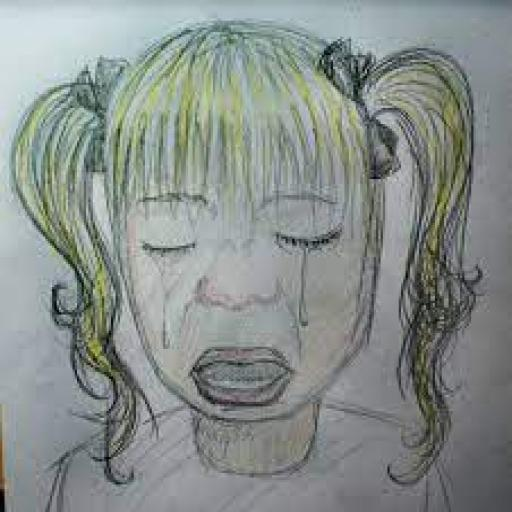person: (10, 19, 486, 510)
